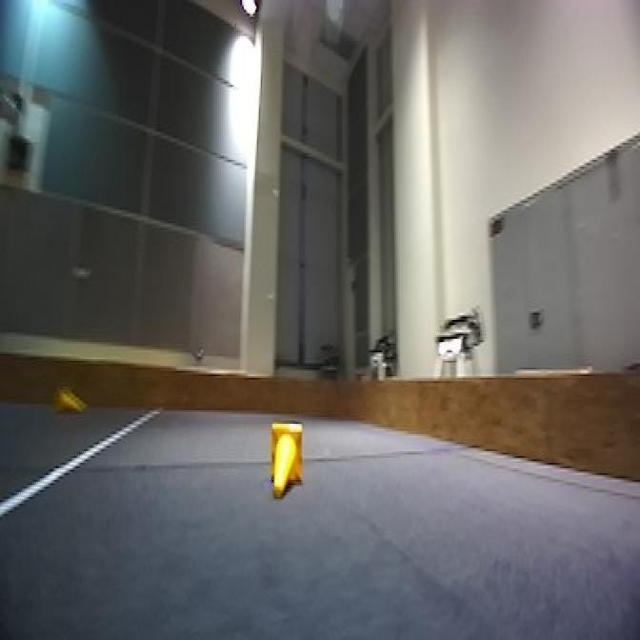frc_cone: (270, 418, 304, 498), (52, 385, 86, 417)
